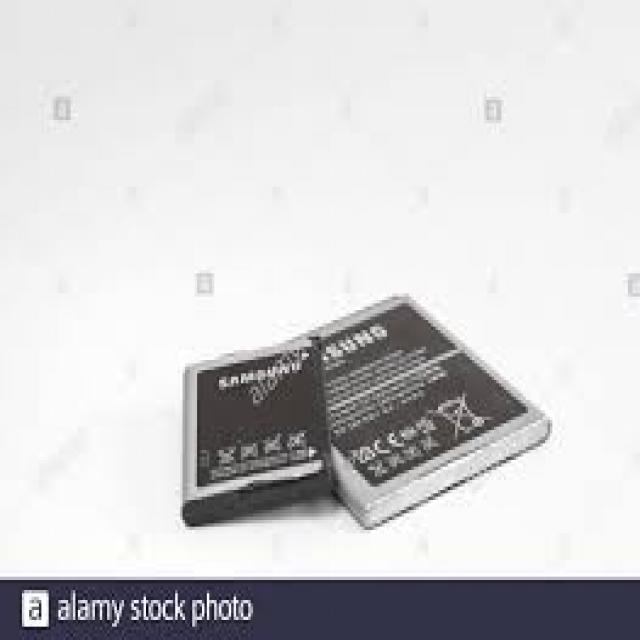non-organic waste: (315, 293, 552, 537), (182, 332, 332, 529)
